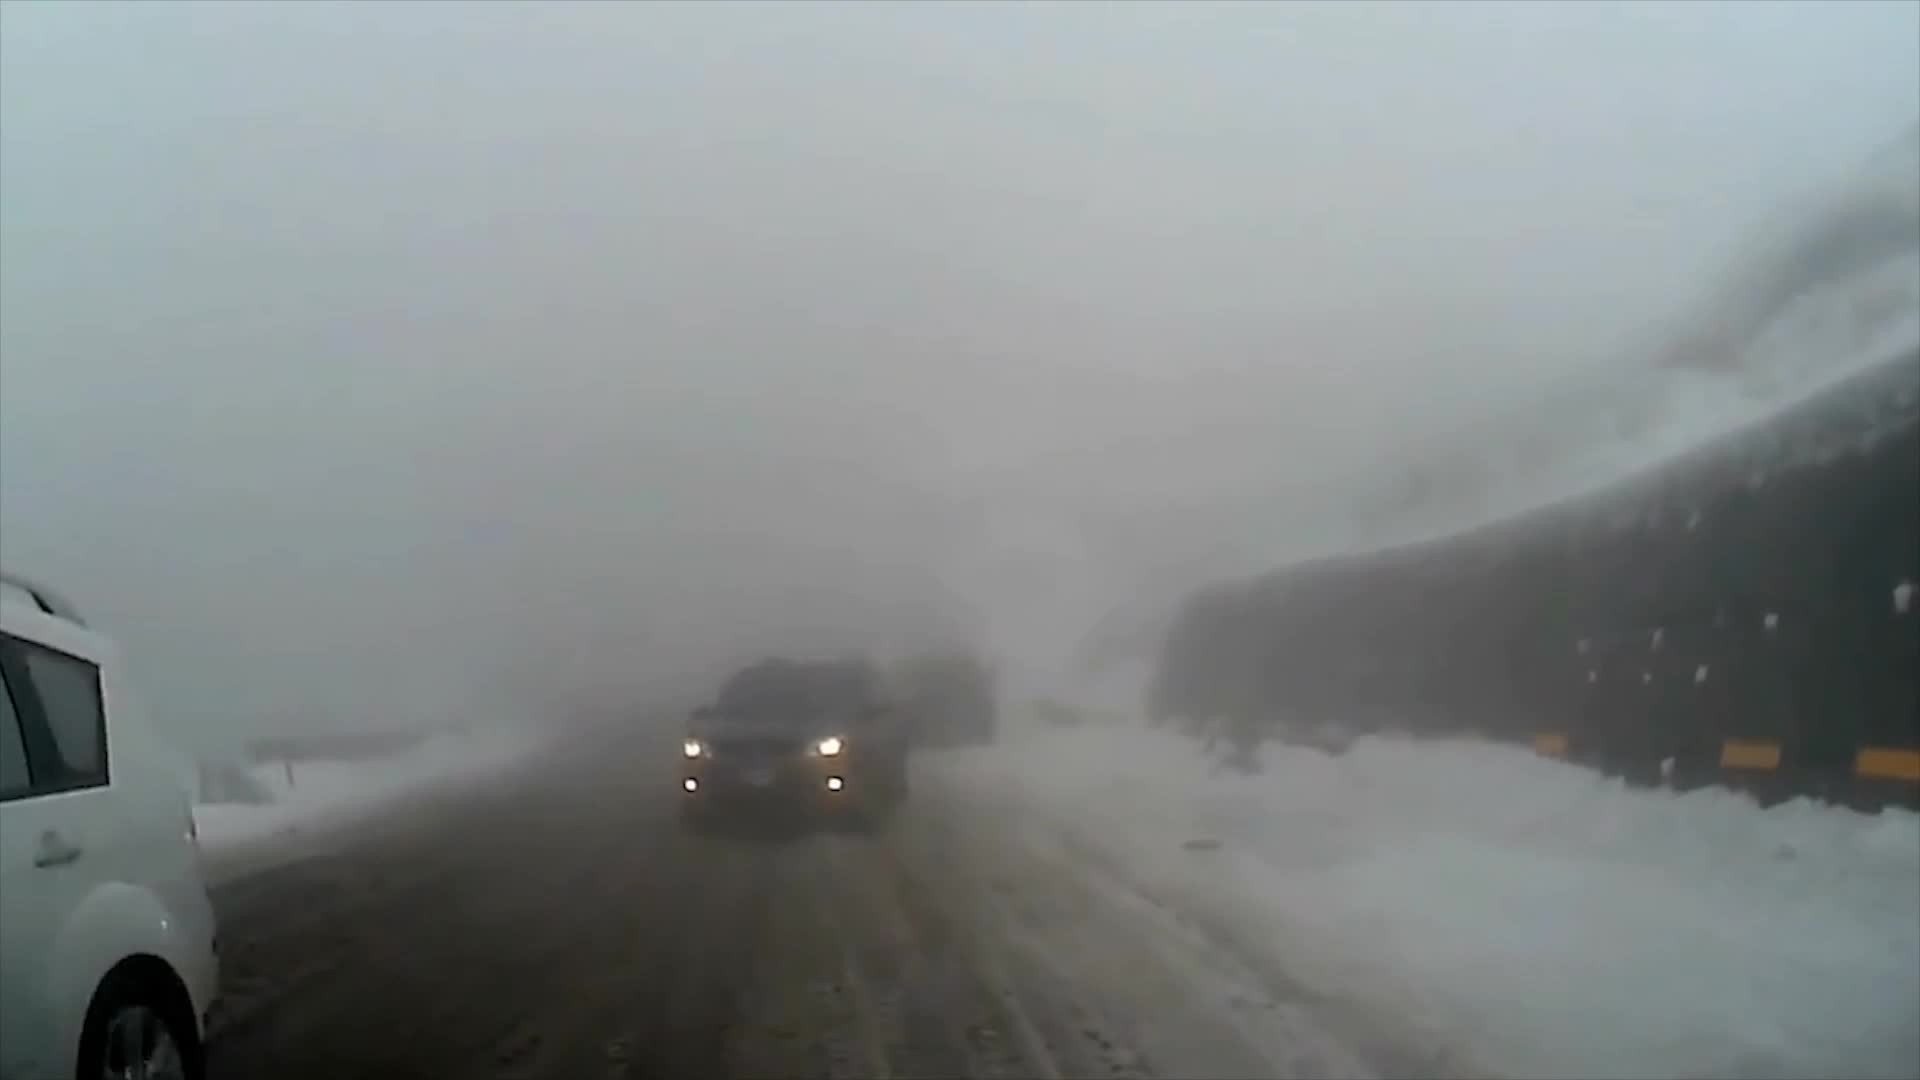vehicle: (0, 564, 222, 1080), (675, 654, 909, 837)
